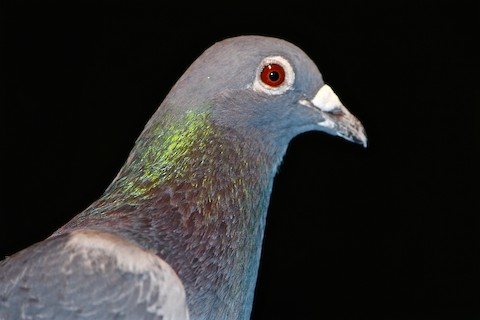pigeon: (10, 31, 368, 308)
